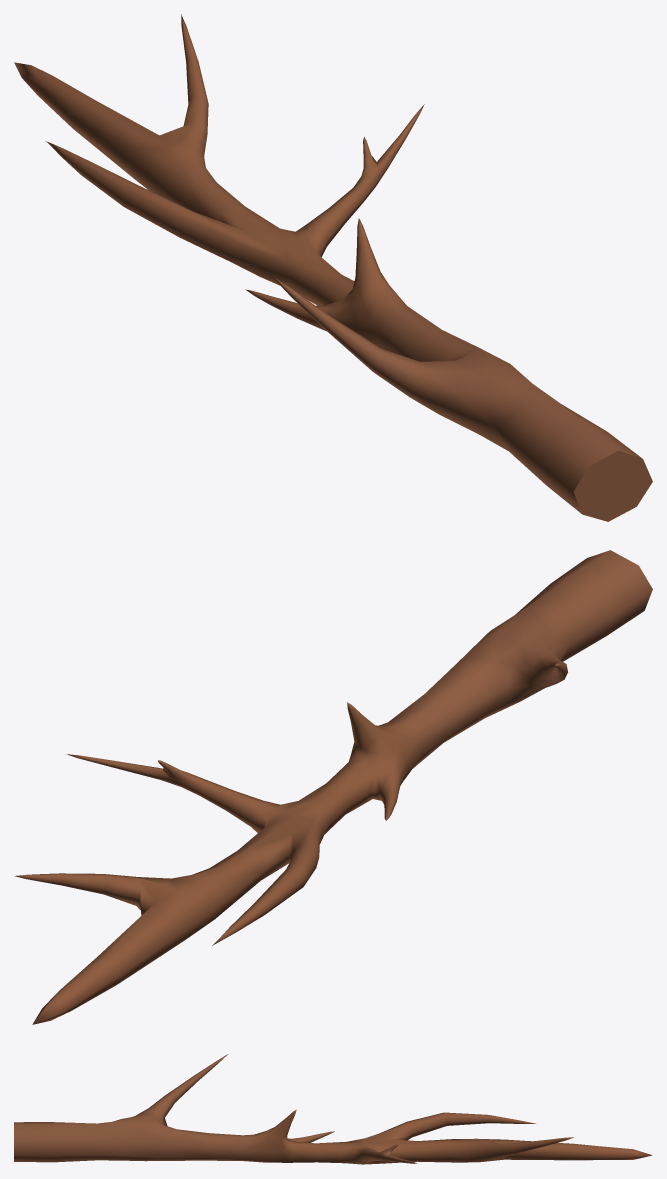
File: SM_Exterior_Tronco_01.fbx
3 renders of one model, top to bottom at view 1: azimuth 30°, elevation 25°; view 2: azimuth 150°, elevation 25°; view 3: azimuth 270°, elevation 25°, orthographic. The views are drawn at different scales.
Parts seen in each view (by area): view 1: SM_Exterior_Tronco1; view 2: SM_Exterior_Tronco1; view 3: SM_Exterior_Tronco1.
Boxes of the visible parts, bbox=[...] form: SM_Exterior_Tronco1: bbox=[14, 14, 652, 521]; SM_Exterior_Tronco1: bbox=[15, 550, 652, 1024]; SM_Exterior_Tronco1: bbox=[14, 1054, 652, 1164].
Size of the model in its own units: 195 by 74.24 by 607.
